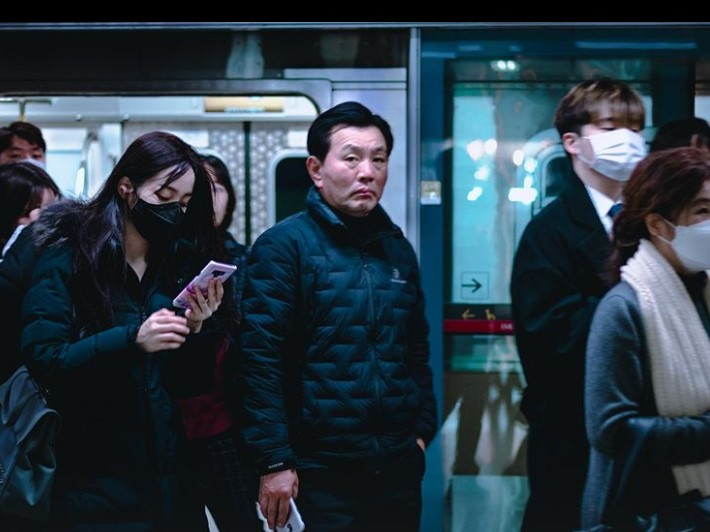face_no_mask: (302, 102, 397, 216)
face_with_mask: (114, 131, 205, 252), (558, 77, 651, 186), (634, 151, 710, 281)
